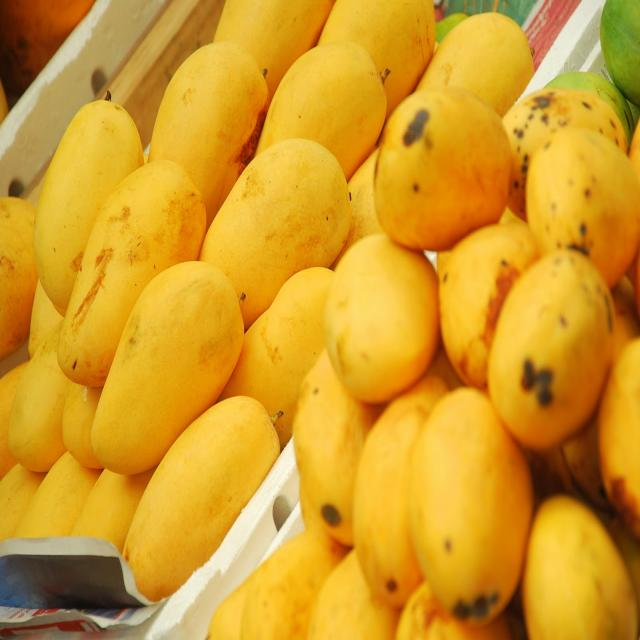mango: (56, 156, 214, 377), (97, 259, 246, 482), (122, 394, 280, 602), (408, 387, 532, 623), (203, 139, 345, 329), (488, 251, 614, 447), (375, 84, 515, 250), (147, 41, 268, 228), (353, 378, 447, 604), (326, 231, 437, 402), (524, 127, 640, 286), (259, 41, 378, 186)
